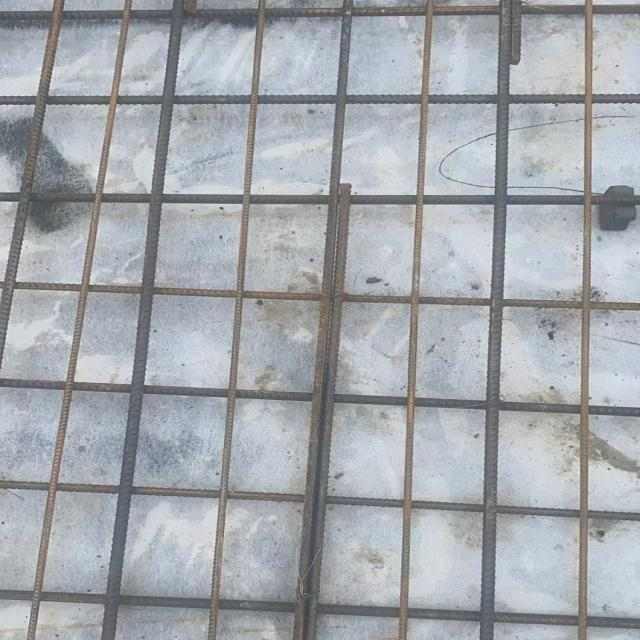ribbed bar: (23, 0, 134, 639), (99, 0, 187, 639), (290, 0, 366, 639), (203, 0, 266, 639), (476, 0, 523, 639), (0, 481, 639, 522), (0, 589, 639, 630), (396, 0, 435, 639), (0, 379, 639, 417), (0, 0, 65, 372), (0, 281, 639, 312), (577, 0, 594, 639), (0, 8, 639, 20), (0, 193, 639, 205), (0, 94, 639, 105)
